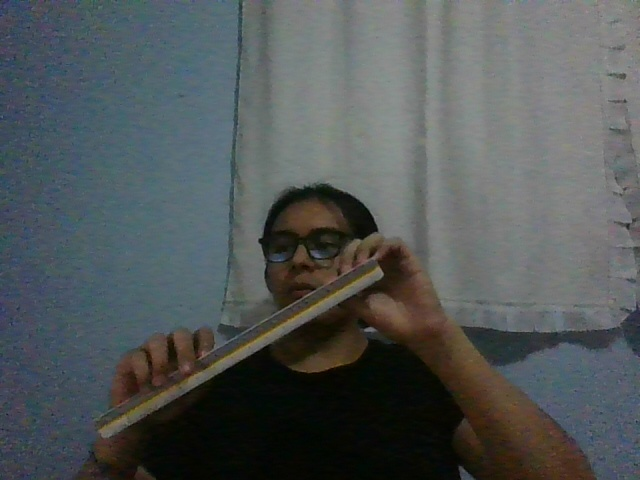regla: (95, 258, 385, 439)
